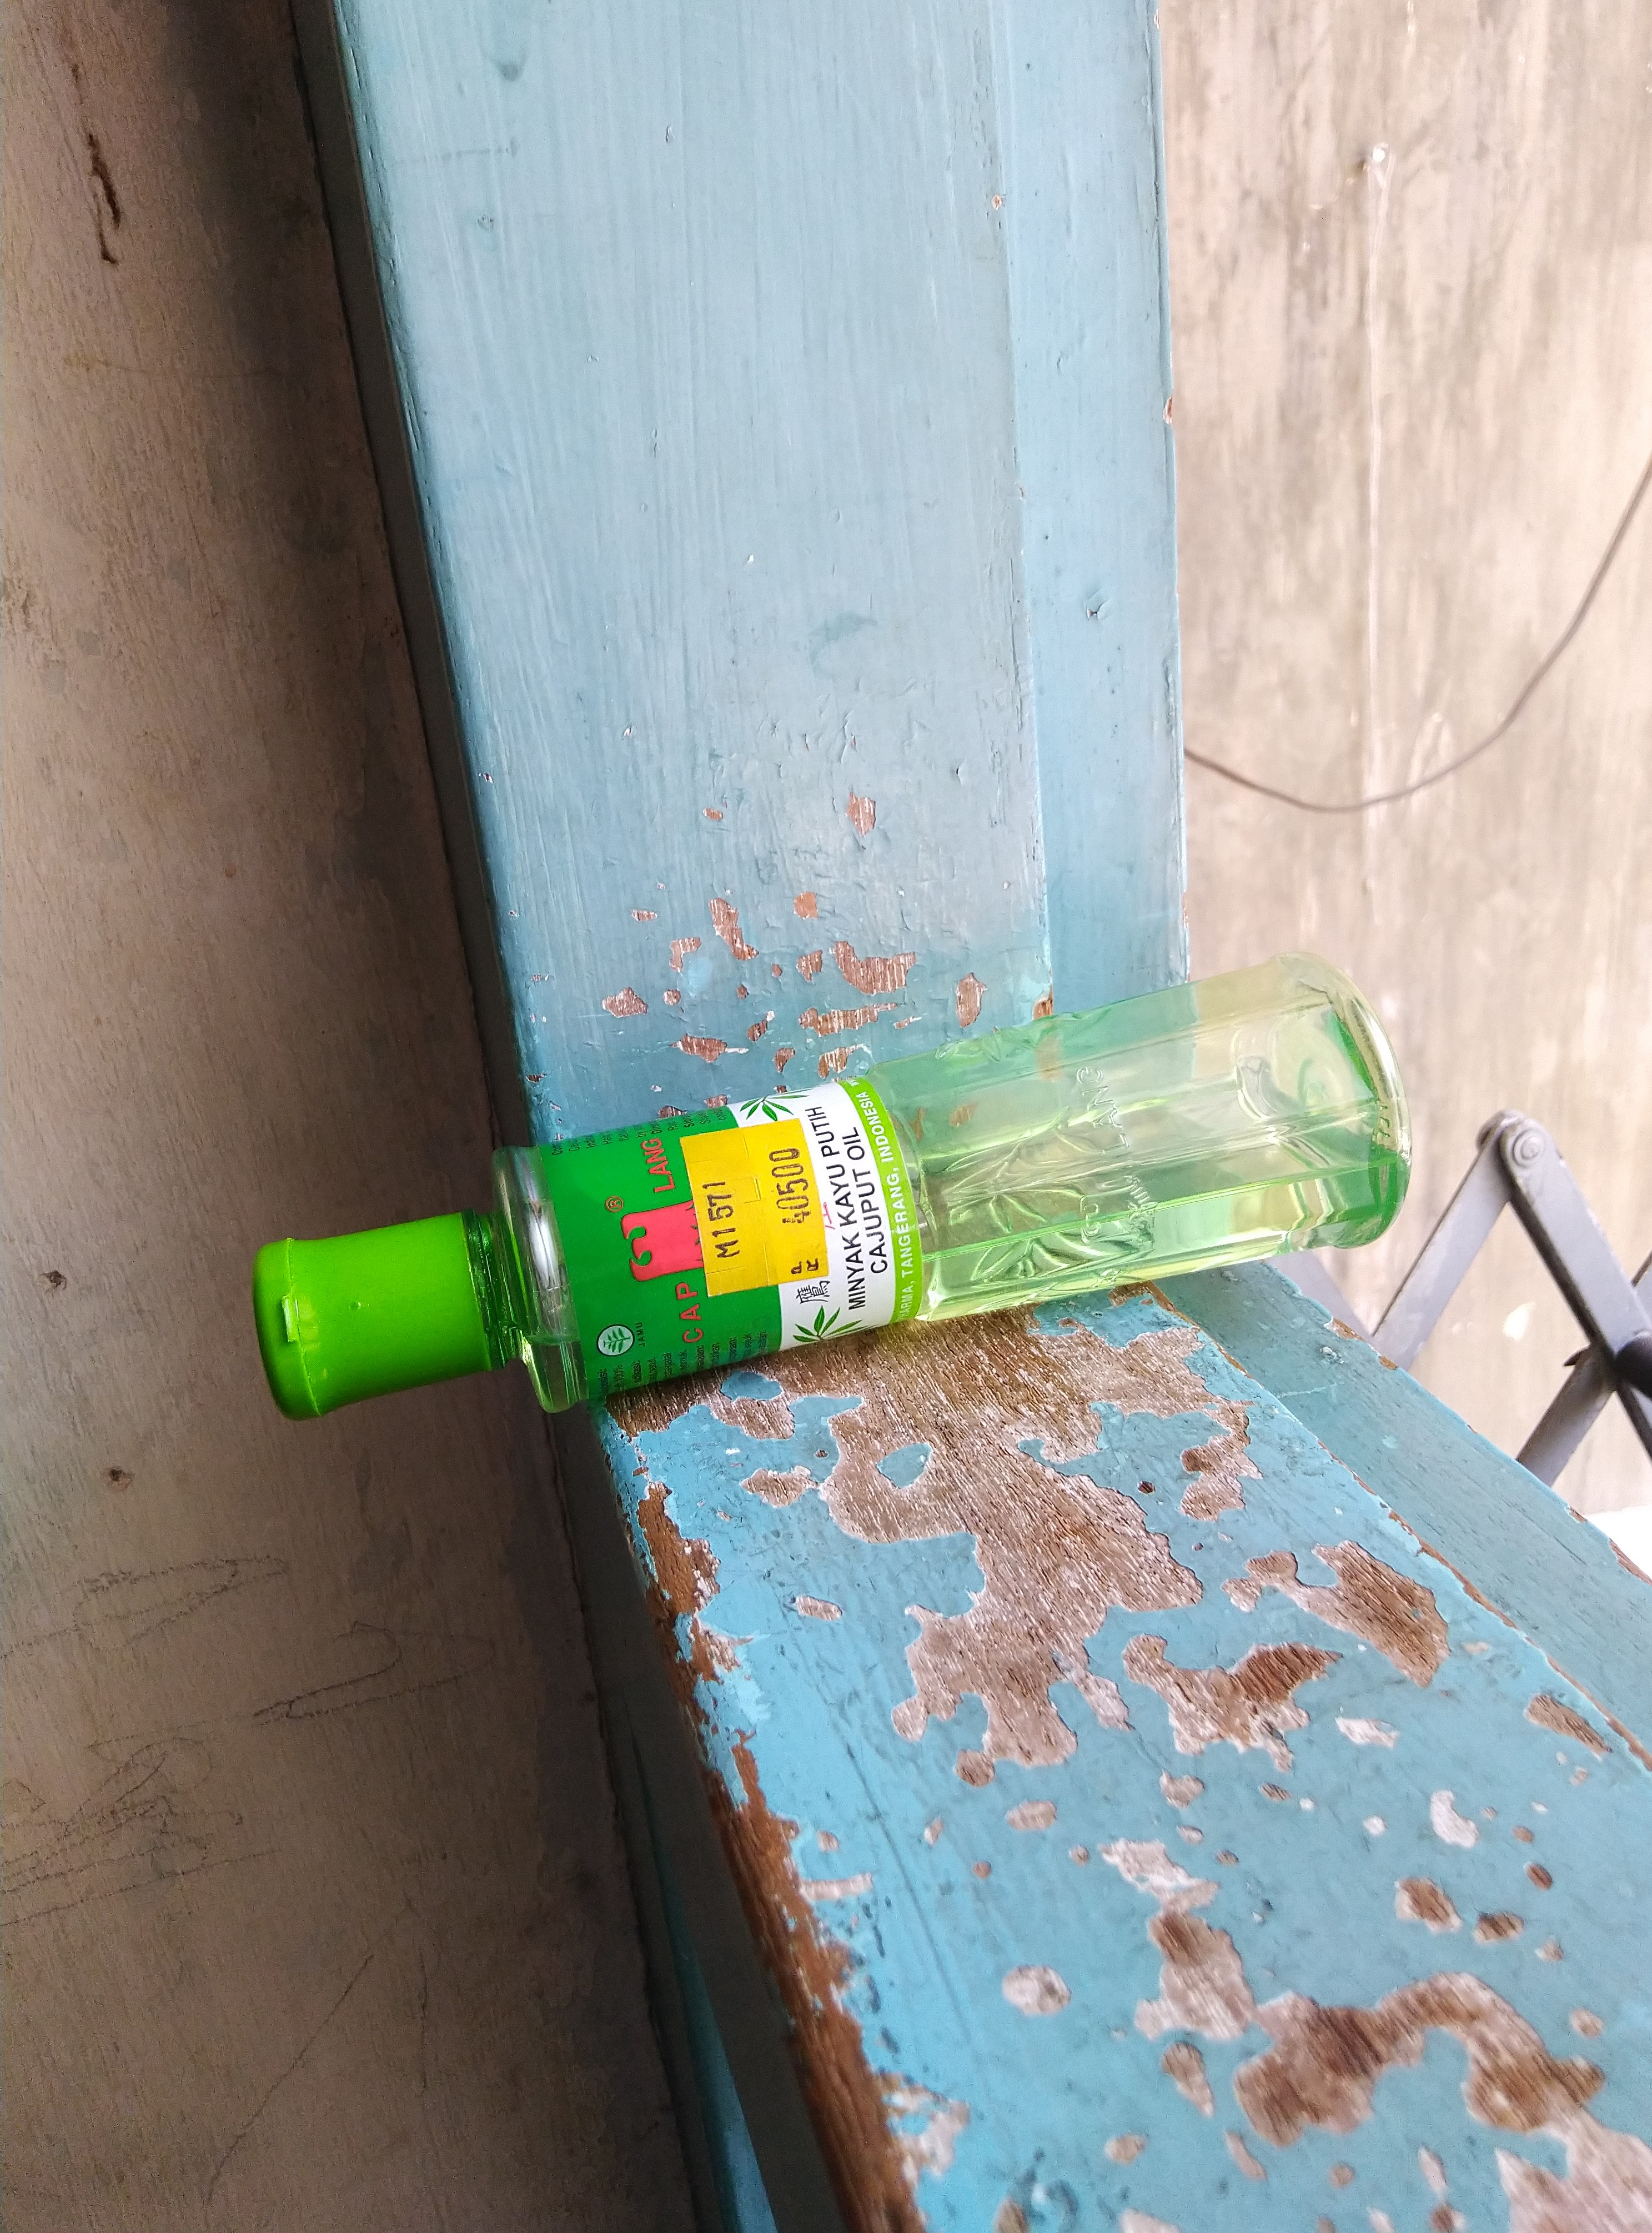HDPE: (257, 1215, 491, 1423)
PET: (505, 970, 1409, 1414)
